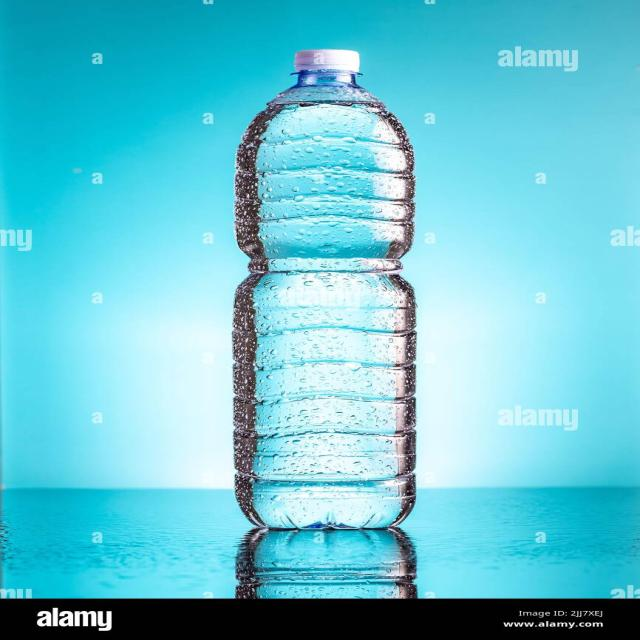bottle: (225, 49, 422, 531)
